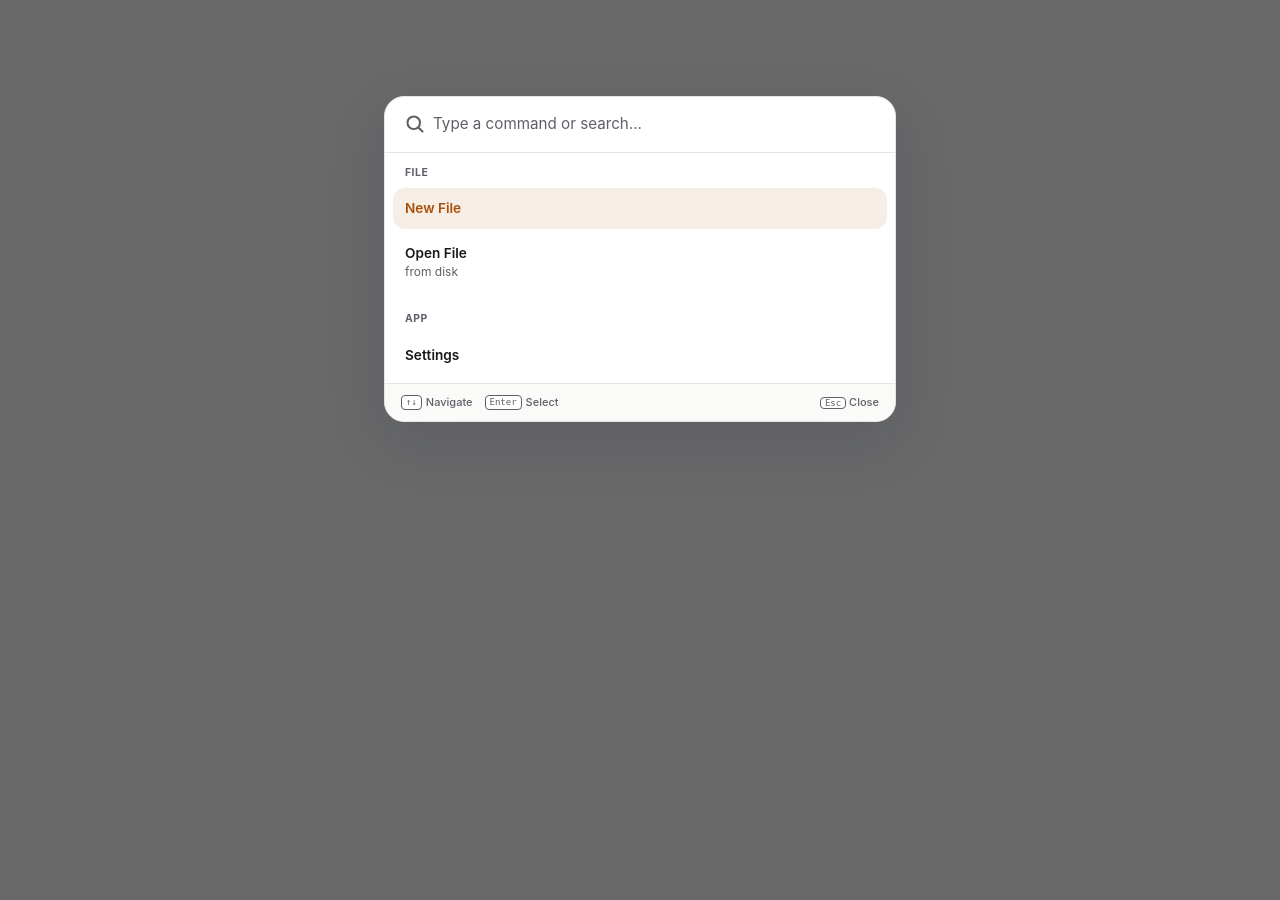
it: CommandPalette › filtering › filters by category
Step 1. Type "App" into the dropdown → coordinates (656, 124), box [433, 113, 879, 136]
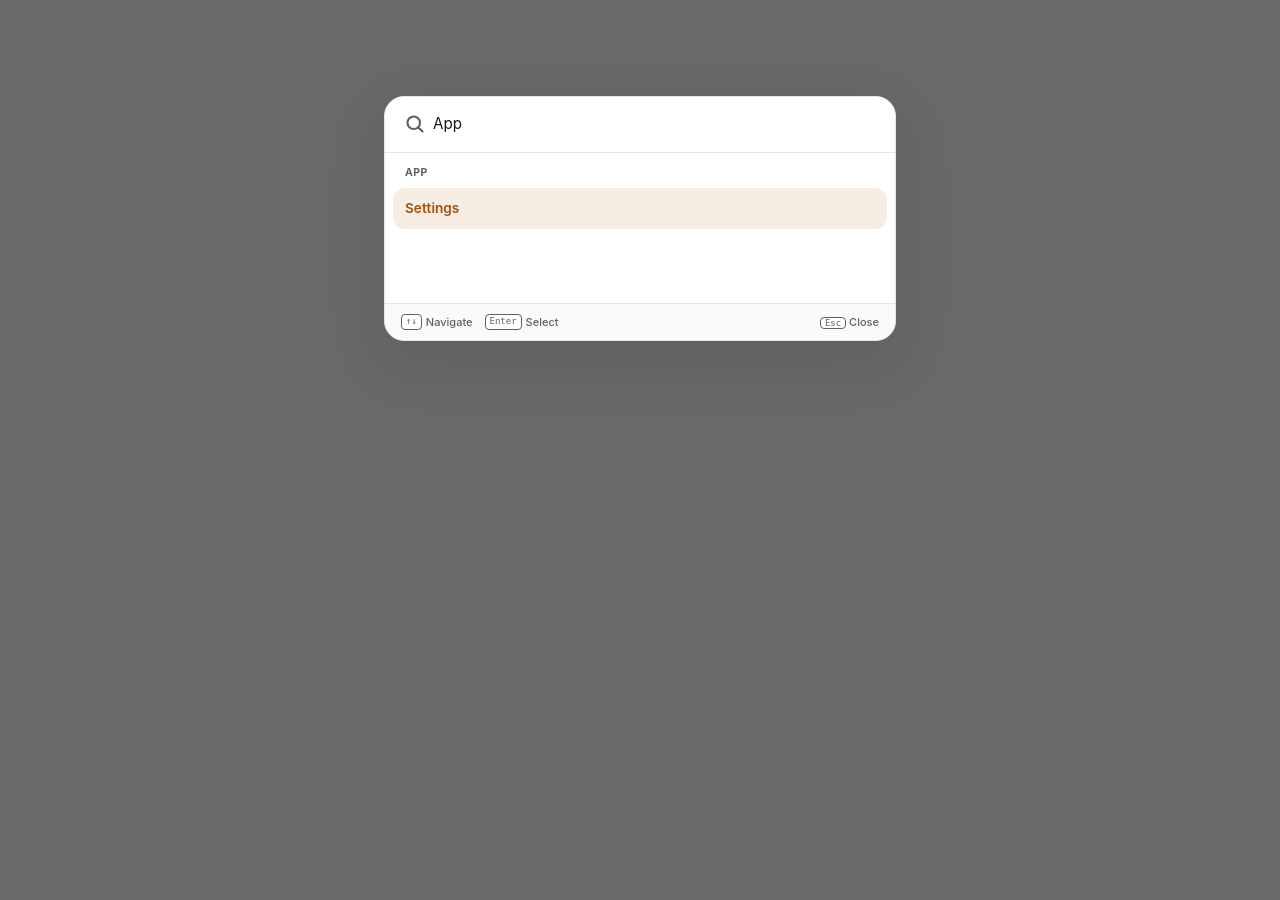
Check: the option reads "Settings", box [393, 188, 887, 229]
Check: the number of options is 1, box [393, 188, 887, 229]
